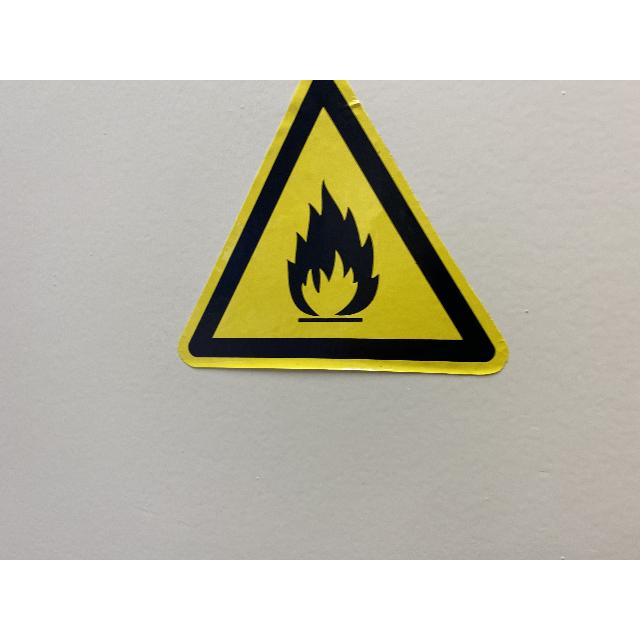fire hazard: (283, 178, 381, 324)
